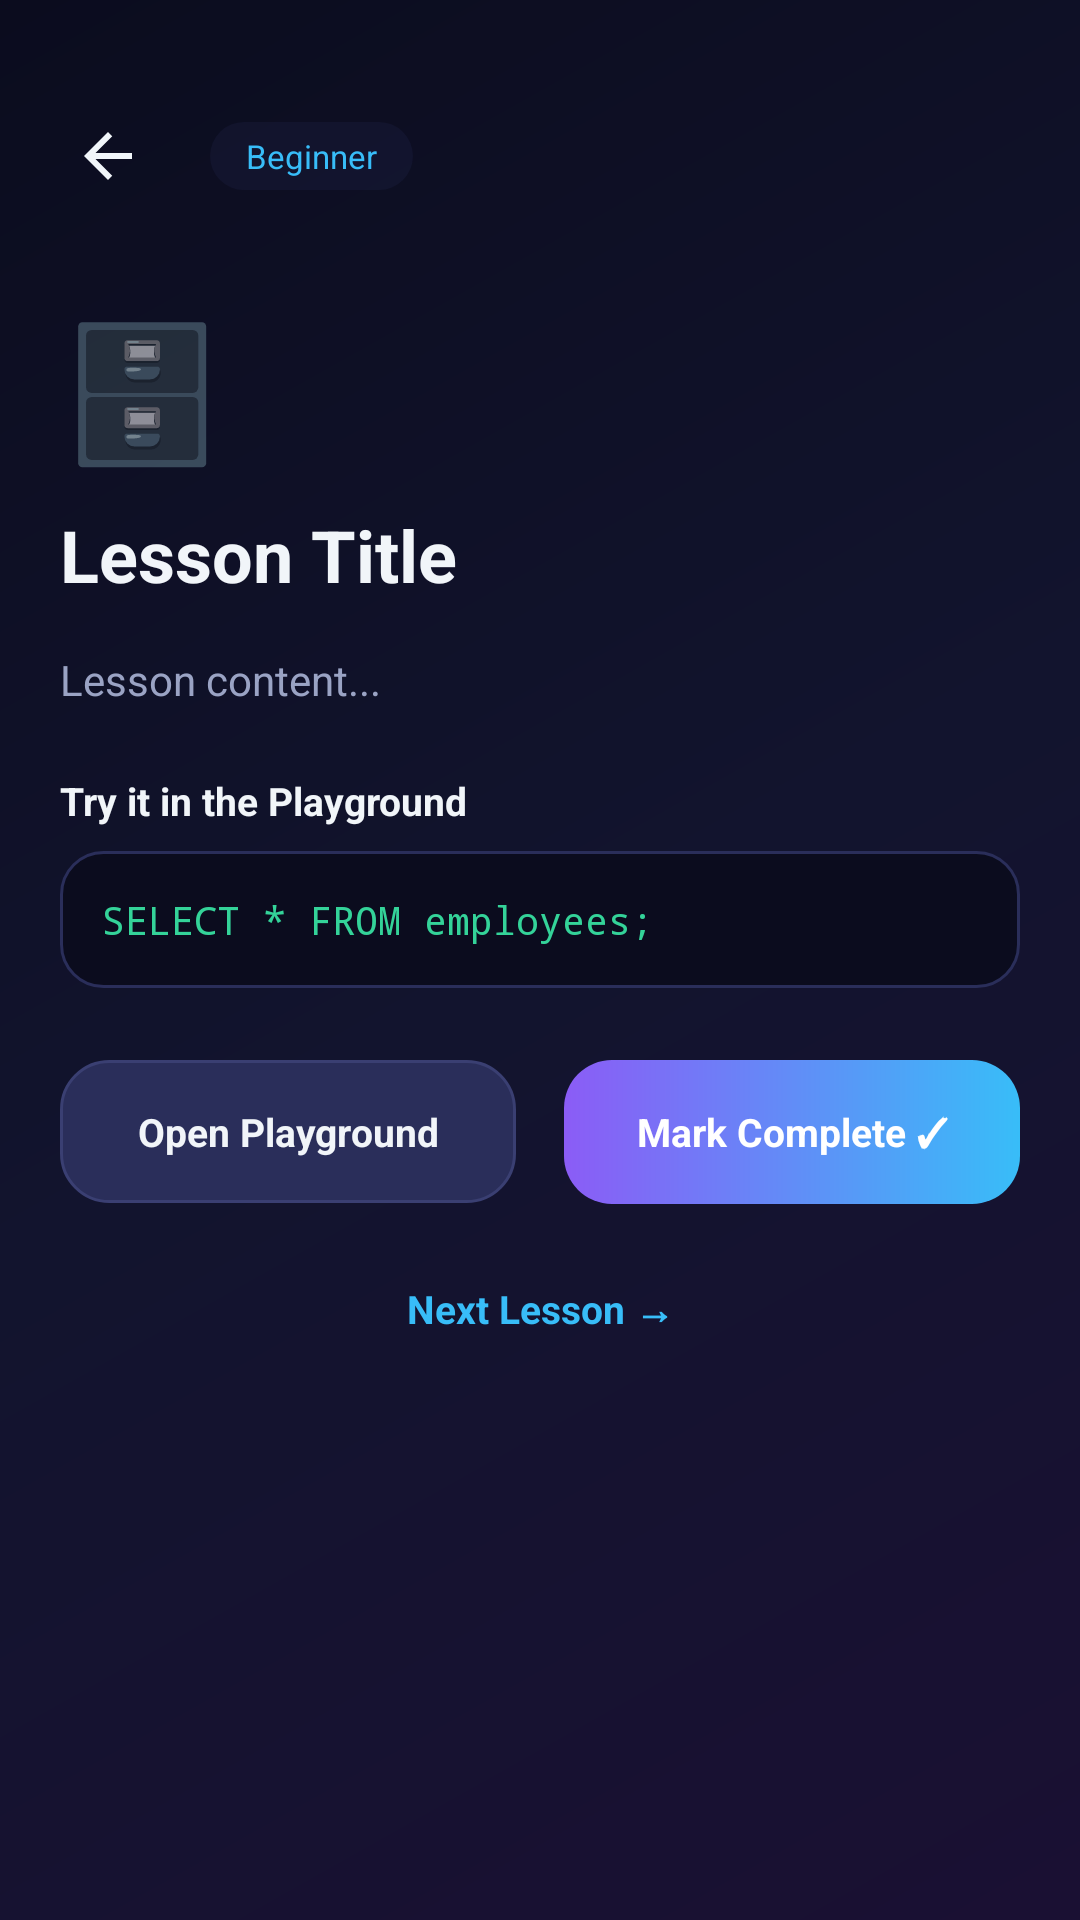

Point at icon controls on the screen. Image size 1080*1920, points as [x,y].
Back: [108,156]
